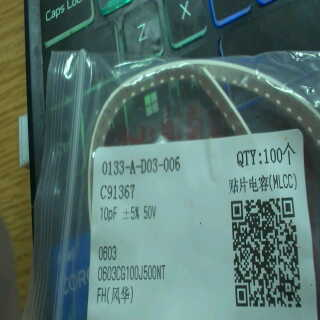10pF: (96, 202, 120, 224)
